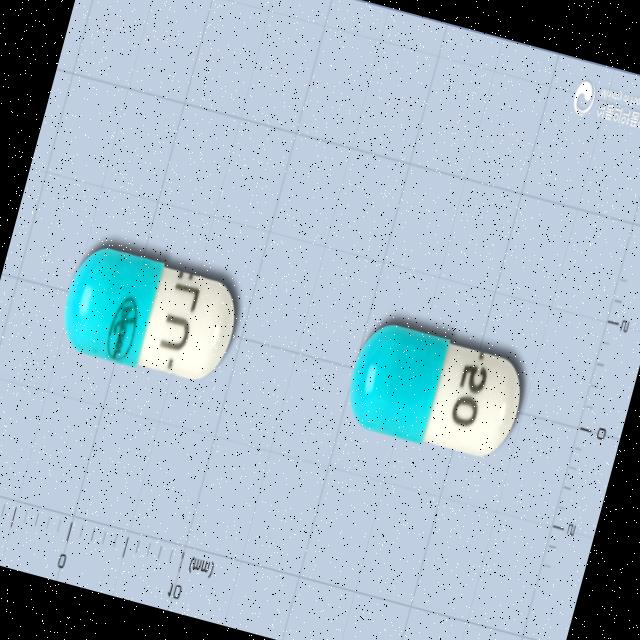Diflucan Cap - 150mg: (52, 239, 246, 391), (338, 316, 532, 468)
